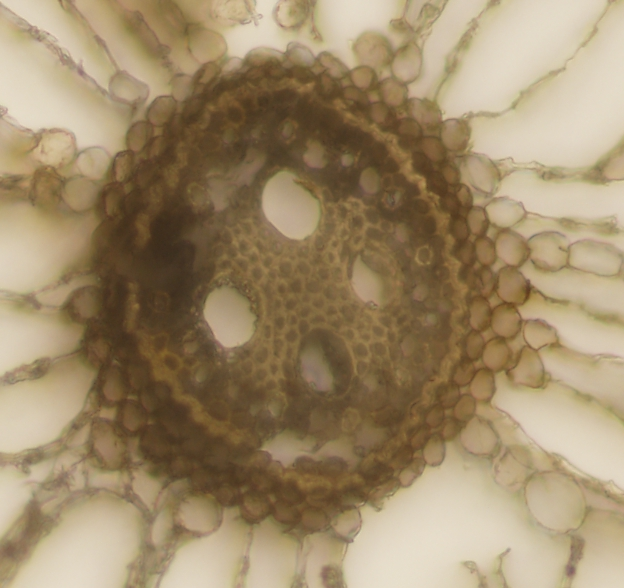lm: (295, 326, 356, 398), (261, 168, 322, 239), (202, 284, 258, 349), (349, 246, 404, 308)
